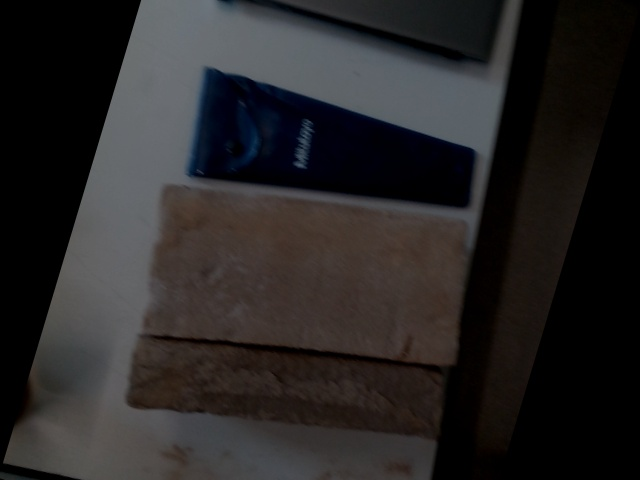brick: (150, 183, 467, 366)
